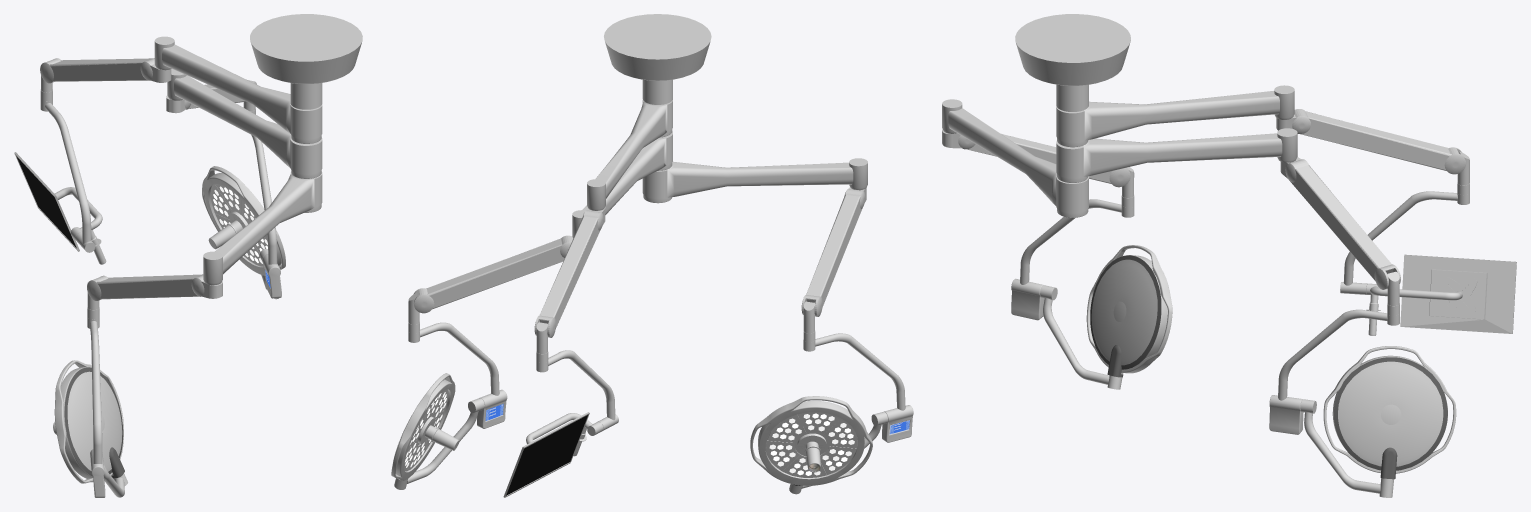
The model's file is MOL2MONITOR.glb.
The picture shows the model from 3 angles, left to right: view 1: azimuth 30°, elevation 25°; view 2: azimuth 150°, elevation 25°; view 3: azimuth 270°, elevation 25°; orthographic projection. The views are drawn at different scales.
Visible parts, largest first — view 1: Cylinder.038; view 2: Cylinder.038; view 3: Cylinder.038.
Boxes of the visible parts, x1=… form: Cylinder.038: x1=14, y1=14, x2=362, y2=497; Cylinder.038: x1=391, y1=14, x2=913, y2=497; Cylinder.038: x1=942, y1=14, x2=1516, y2=497.
Size of the model in its own units: 1.67 by 1.86 by 2.22.
13 materials, 2 textured.
